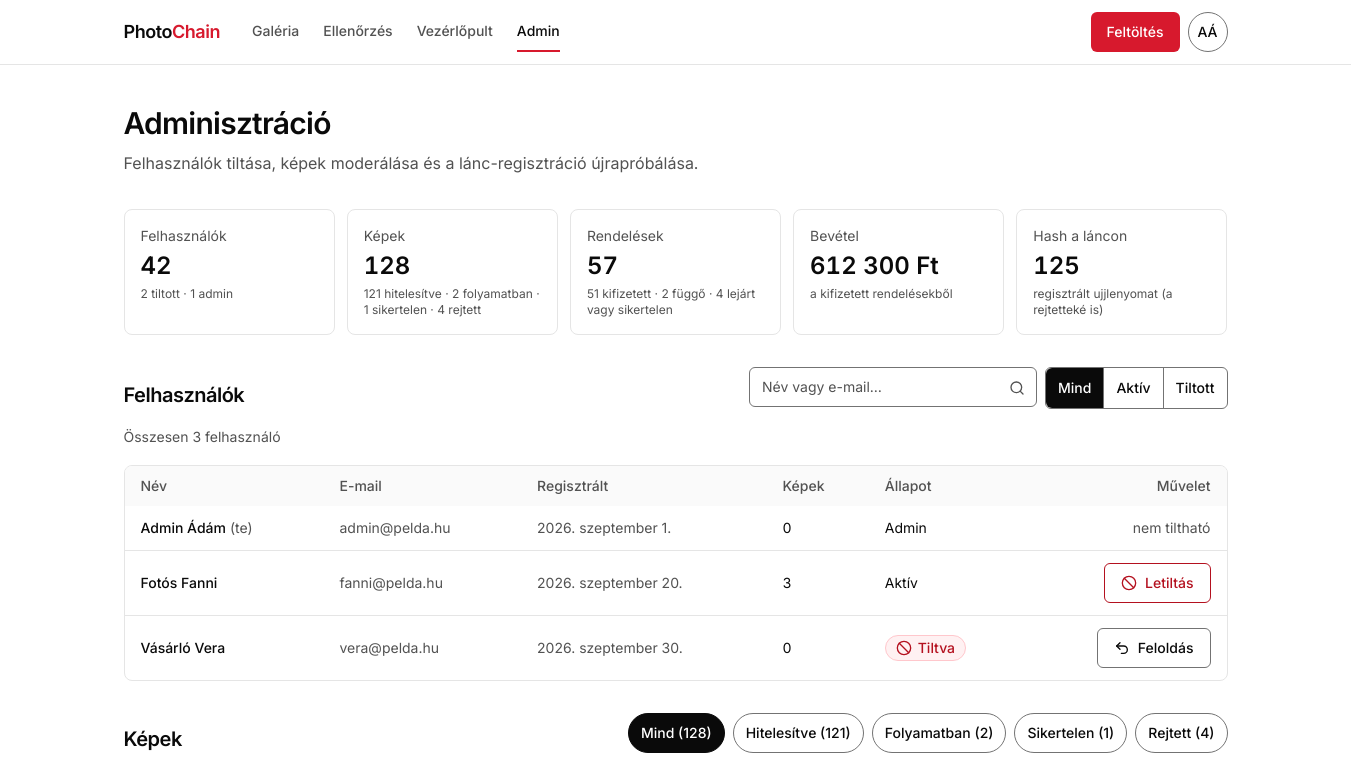
Test: AdminPage – nézet az URL-ben › a képek állapotszűrője: Rejtett → az URL-ben és a kérésben status=HIDDEN, a Mind gomb nem nyomott; a fókusz a találatszámra
The width and height of the screenshot is (1366, 768).
Click the button "Rejtett (4)": (1181, 733) [1135,713,1228,753]
(page scrolled)
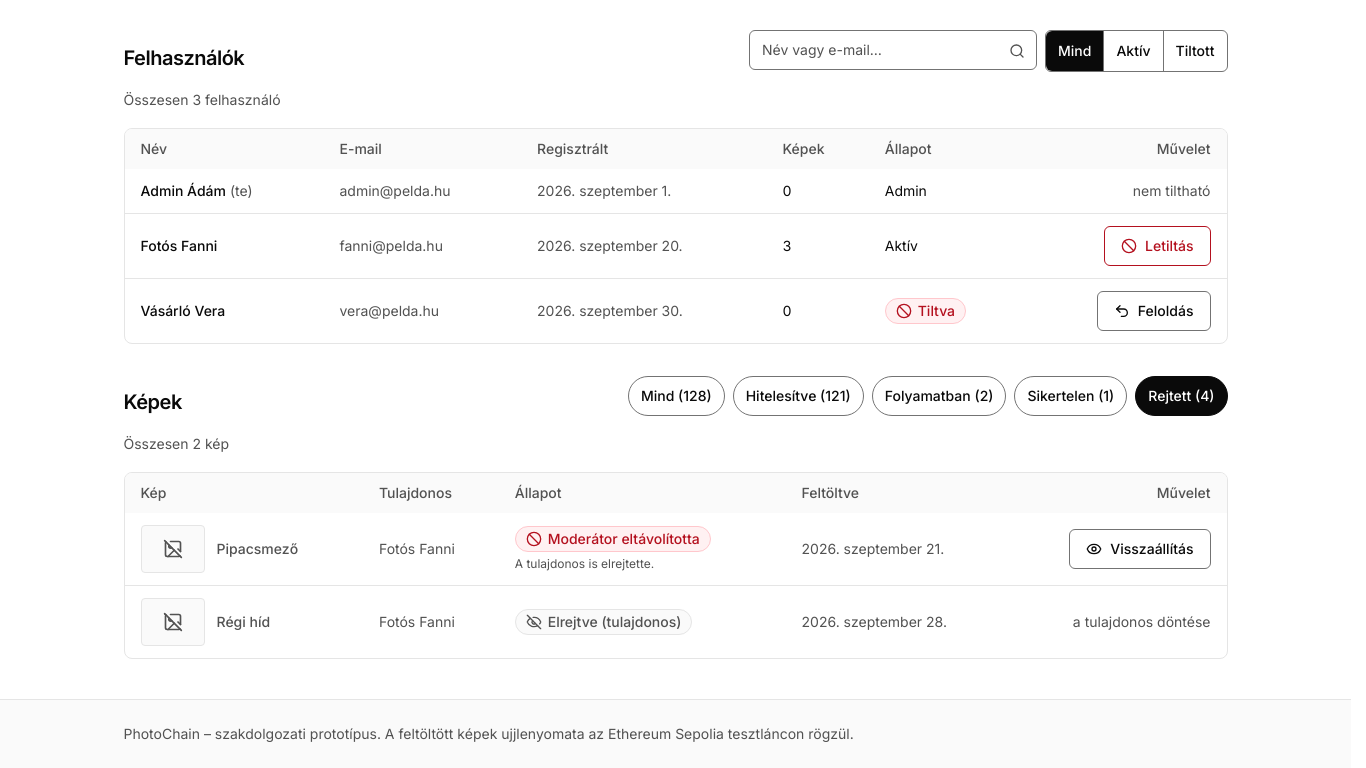
Now the text "Összesen 2 kép" is shown, box [124,435,229,452]
